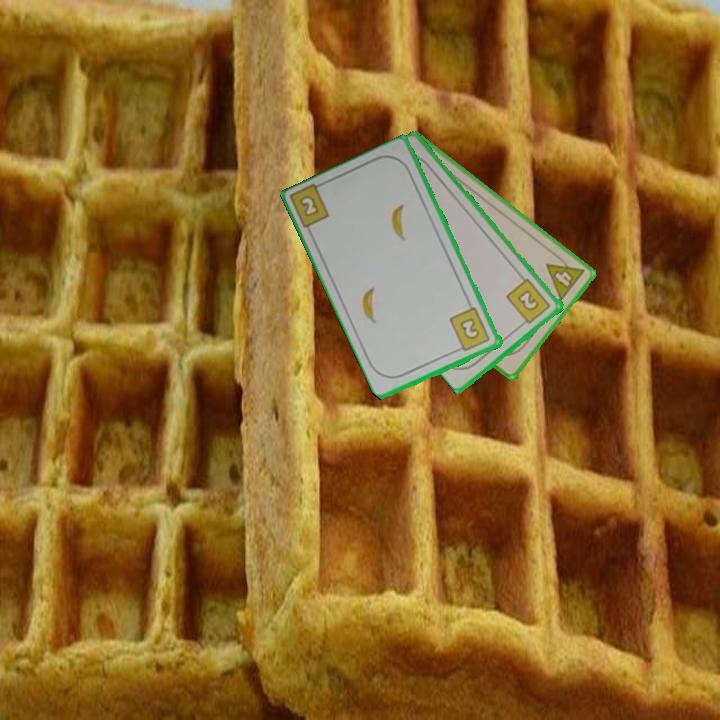2b: (503, 275, 554, 329), (446, 304, 493, 355), (296, 192, 322, 220)
4p: (542, 250, 588, 304)
